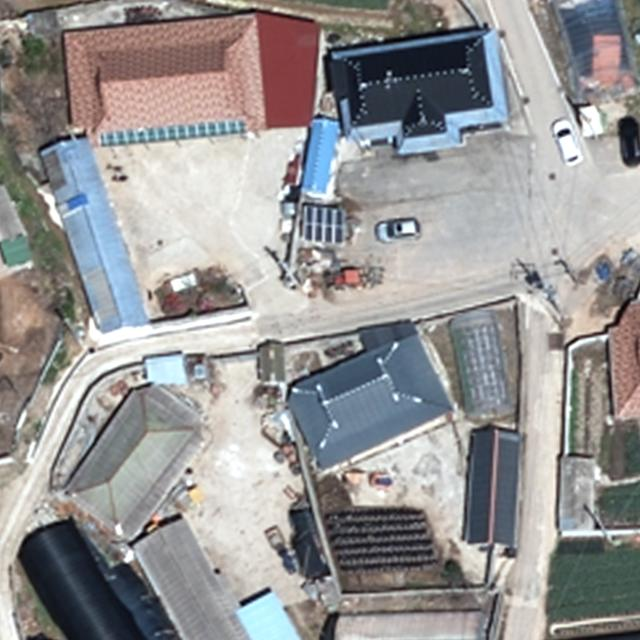panel: (298, 201, 349, 245)
